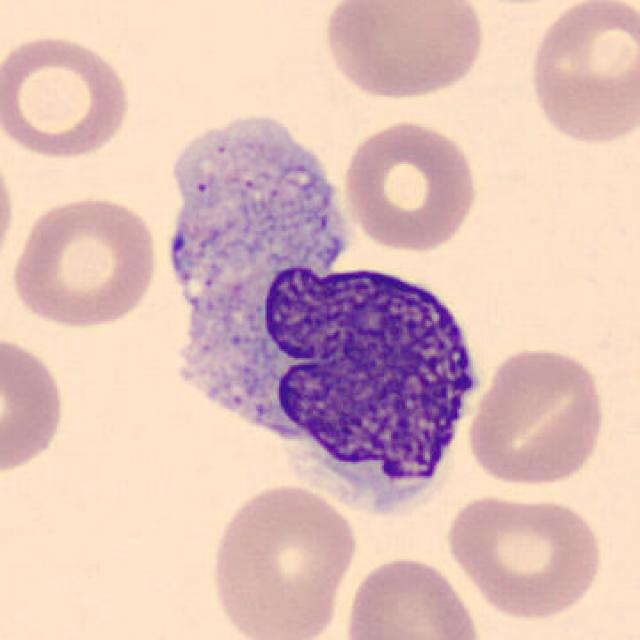Monocyte: (163, 240, 492, 525), (154, 90, 362, 478)
RBC: (204, 479, 359, 640), (441, 488, 608, 622), (462, 342, 610, 490), (7, 192, 162, 332), (339, 116, 482, 256), (0, 30, 135, 162), (318, 0, 488, 102), (524, 0, 638, 148), (340, 552, 487, 640), (0, 329, 69, 481)
